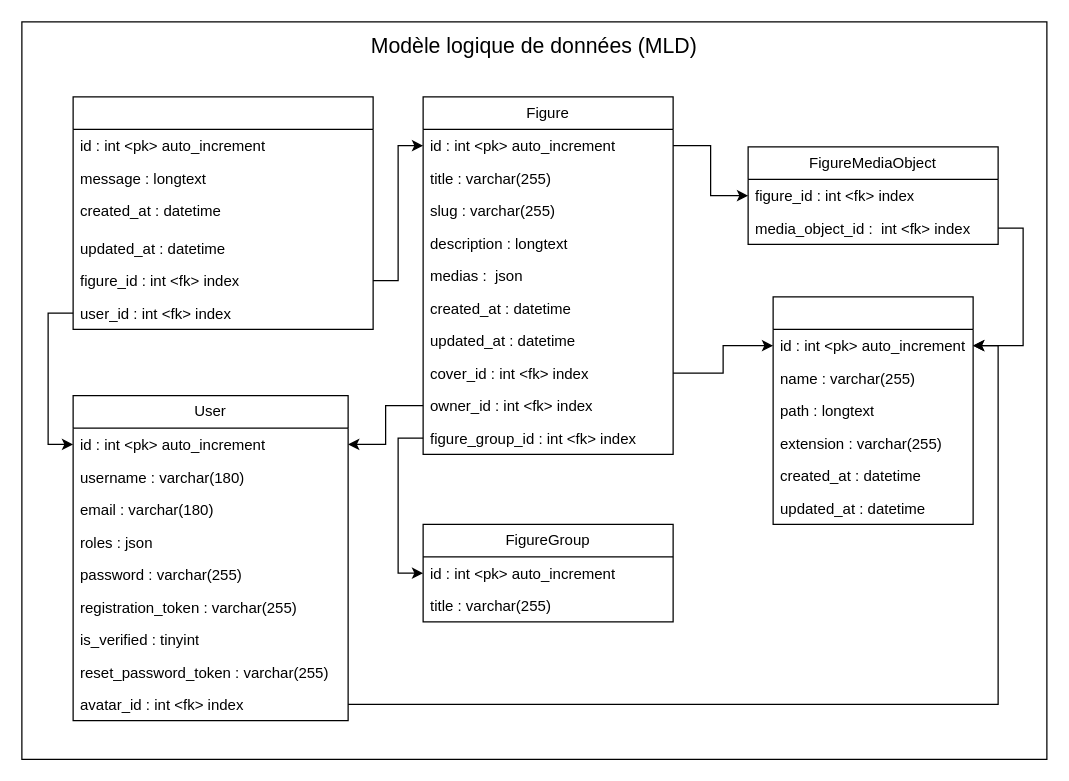
Some shapes in this 1069 by 781 pixel diagram are drawn without their labels. Here are the shapes that lost their labels. From the top down, the box of each, then its label:
(72, 96, 373, 329): Commentaire
(772, 296, 973, 524): MediaObject
